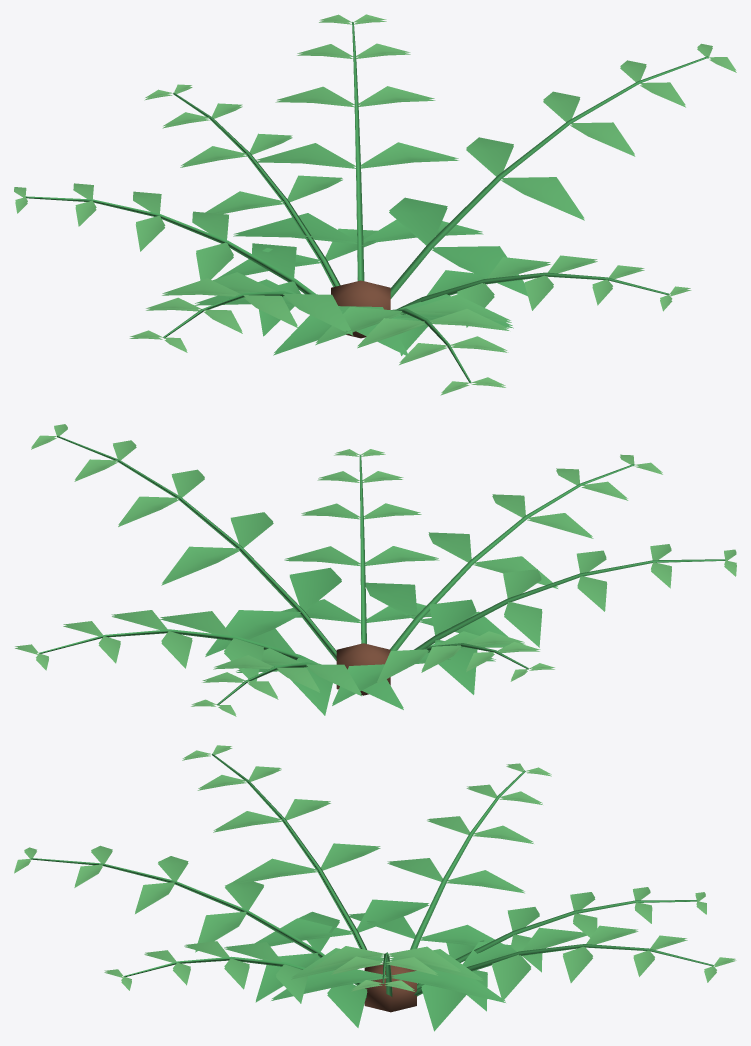
Rendered from flora_fern_a.gltf.
3 views of the same model, one above another, from view 1: azimuth 30°, elevation 25°; view 2: azimuth 150°, elevation 25°; view 3: azimuth 270°, elevation 25° (orthographic). The views are drawn at different scales.
Parts seen in each view (by area): view 1: flora_fern_a; view 2: flora_fern_a; view 3: flora_fern_a.
Boxes of the visible parts, x1,y1,x2,y2 form: flora_fern_a: (14, 14, 736, 395); flora_fern_a: (15, 424, 736, 716); flora_fern_a: (14, 745, 736, 1031).
Size of what is drawn, in the model's own units: 0.9826 by 0.2818 by 1.03.
